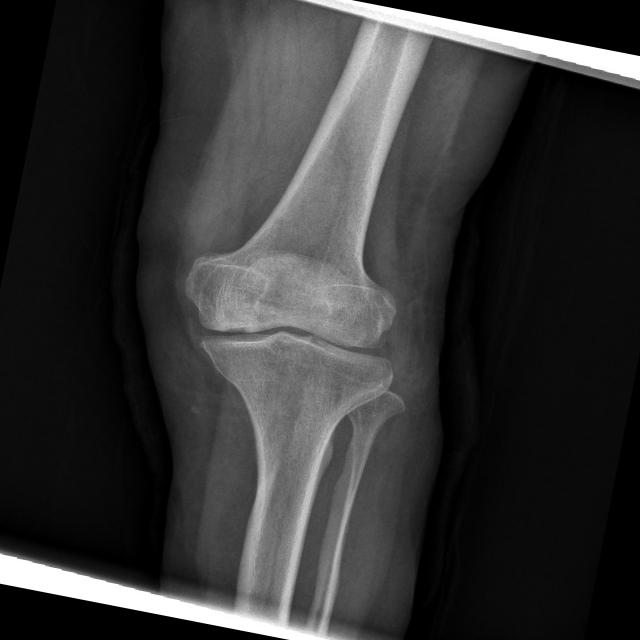Knee: (165, 214, 414, 414)
